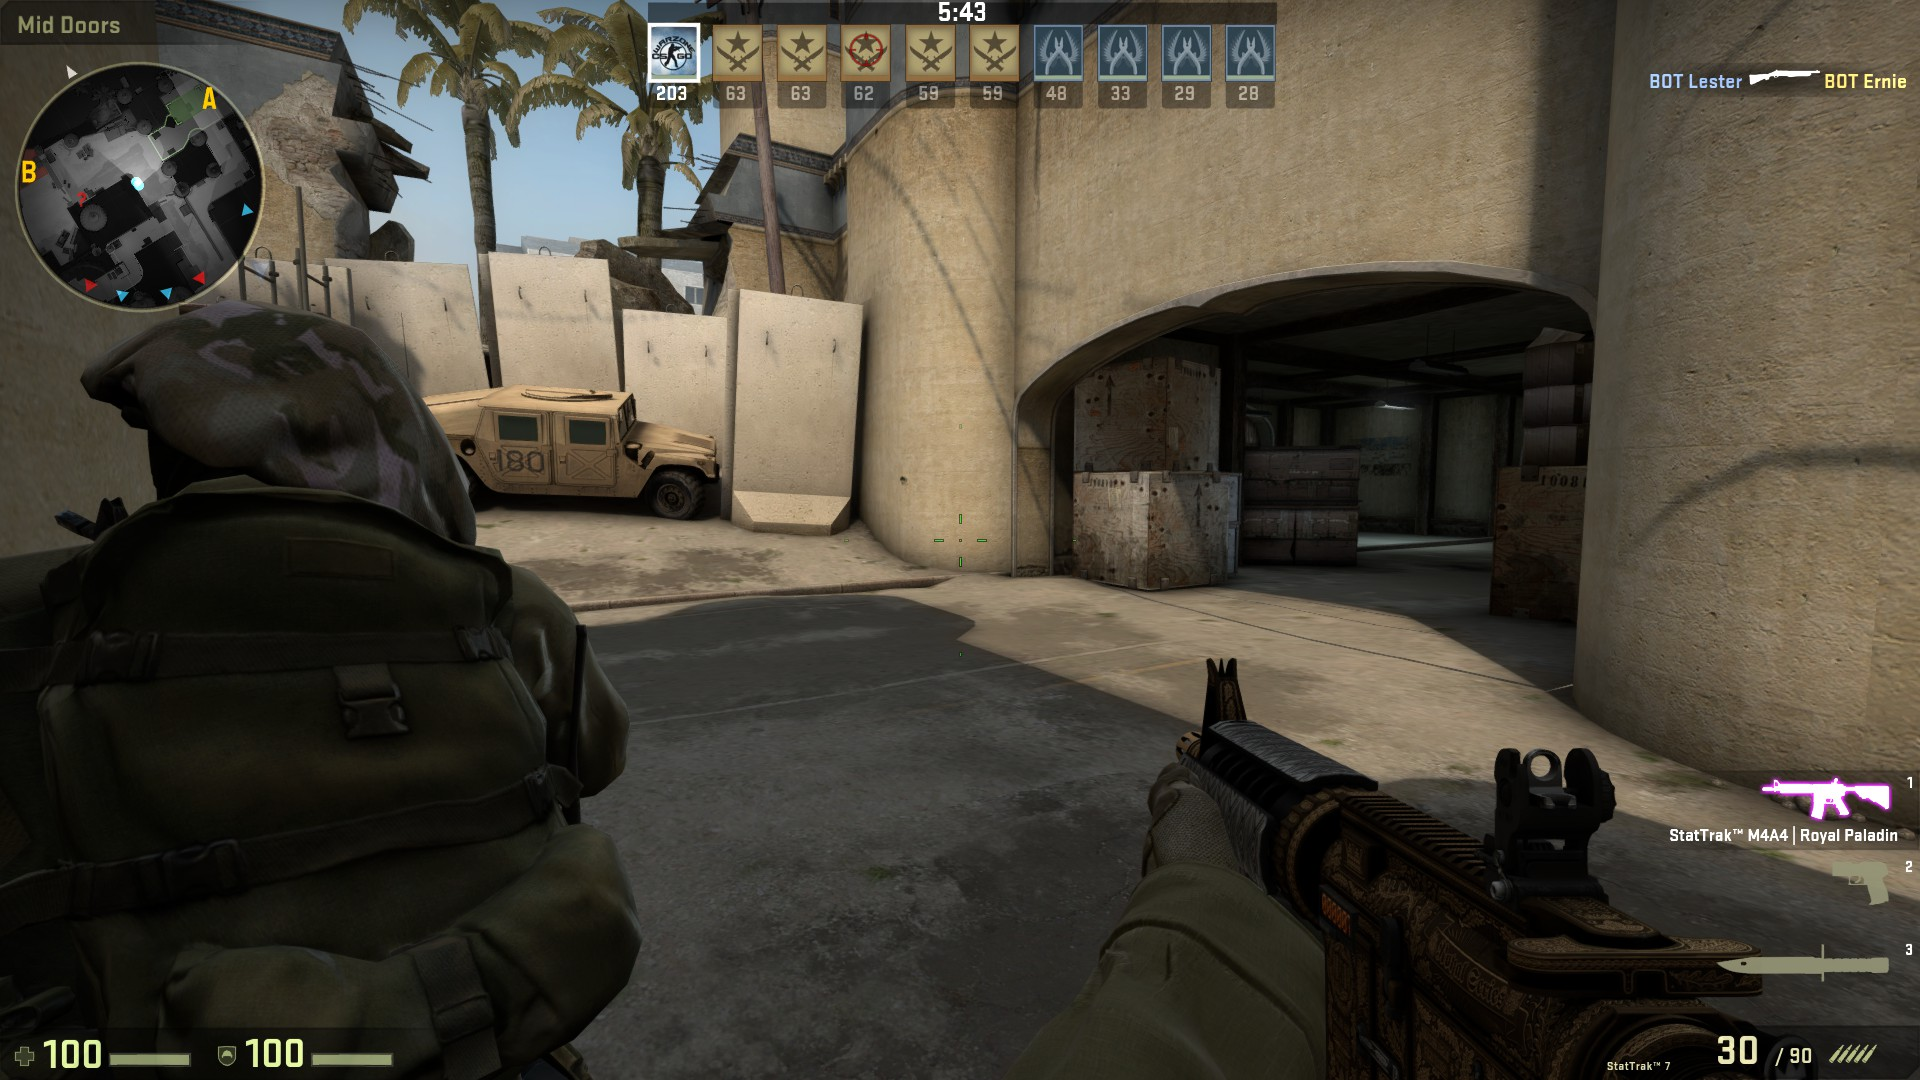c: (1, 299, 597, 1080)
ch: (80, 289, 476, 605)
